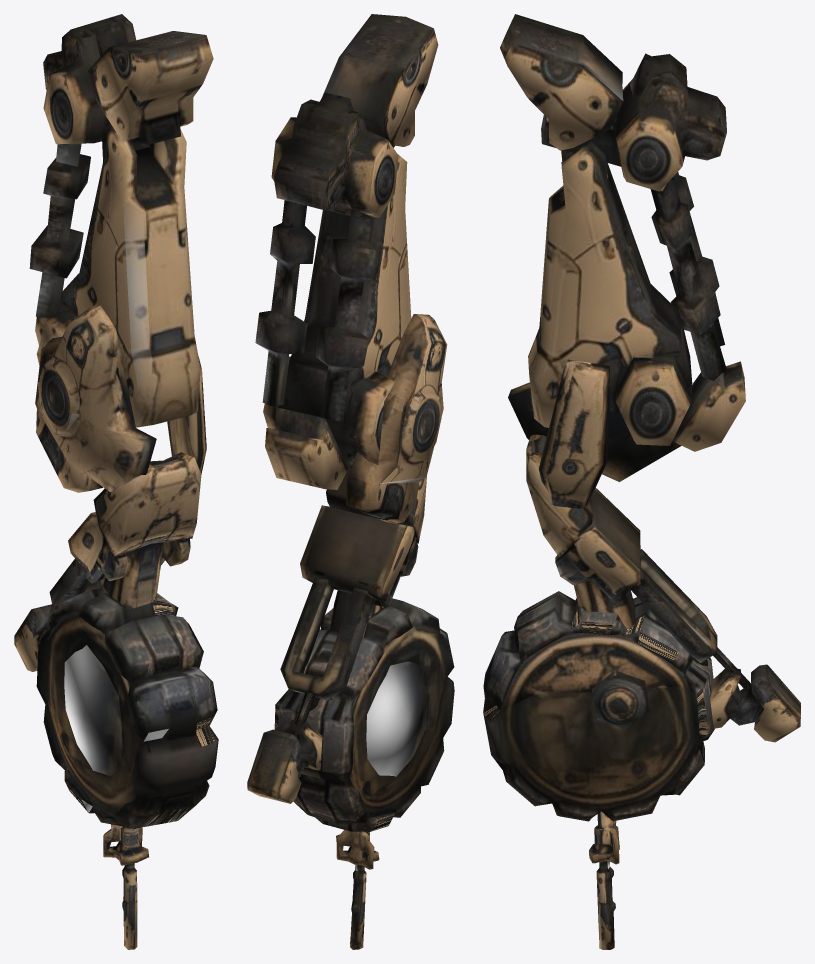
Rendered from gyzherWheels.glb.
3 renders of one model, left to right at view 1: azimuth 30°, elevation 25°; view 2: azimuth 150°, elevation 25°; view 3: azimuth 270°, elevation 25°, orthographic. The views are drawn at different scales.
Parts seen in each view (by area): view 1: 0.001, 2.001, 1.001, 3.001; view 2: 0.001, 1.001, 2.001, 3.001; view 3: 0.001, 2.001, 1.001, 3.001.
Part boxes in pixels (x1=…): 0.001: x1=29, y1=14, x2=213, y2=427; 2.001: x1=36, y1=588, x2=218, y2=828; 1.001: x1=14, y1=303, x2=206, y2=671; 3.001: x1=103, y1=824, x2=148, y2=949; 0.001: x1=255, y1=14, x2=438, y2=489; 1.001: x1=247, y1=314, x2=447, y2=803; 2.001: x1=274, y1=598, x2=454, y2=831; 3.001: x1=336, y1=830, x2=379, y2=949; 0.001: x1=500, y1=14, x2=745, y2=451; 2.001: x1=483, y1=591, x2=714, y2=821; 1.001: x1=508, y1=359, x2=800, y2=742; 3.001: x1=589, y1=811, x2=619, y2=949.
Size of the model in its own units: 0.4321 by 2.91 by 0.9088.
1 material, 1 textured.
